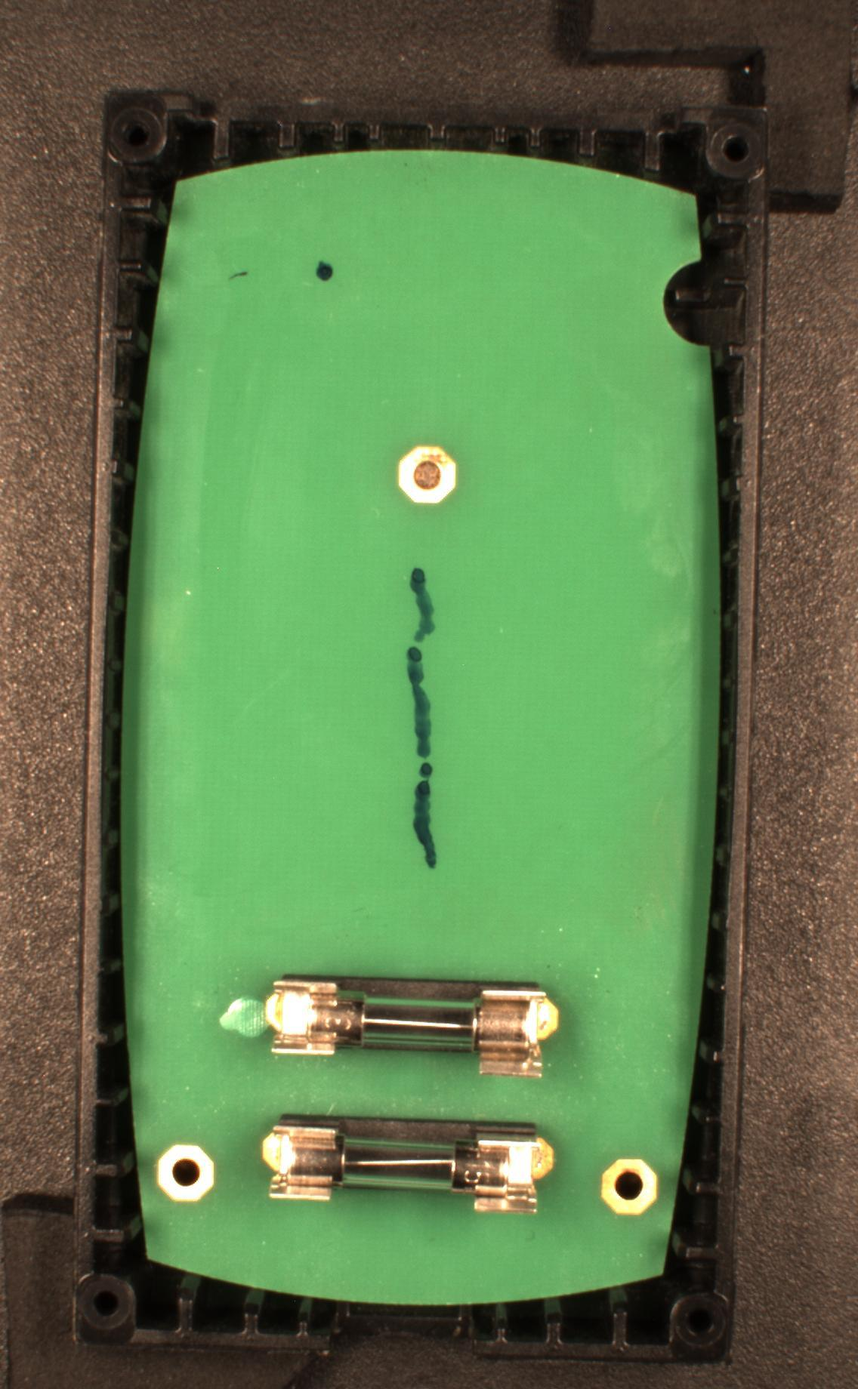Linijsko Ostecene: (404, 565, 440, 871)
Tockasto Ostecenje: (315, 260, 334, 283)
